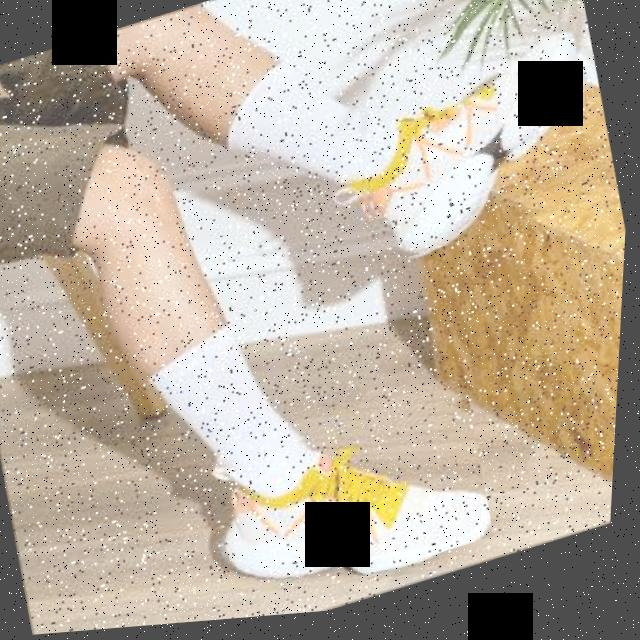shoe: (202, 388, 506, 623), (333, 37, 612, 279)
